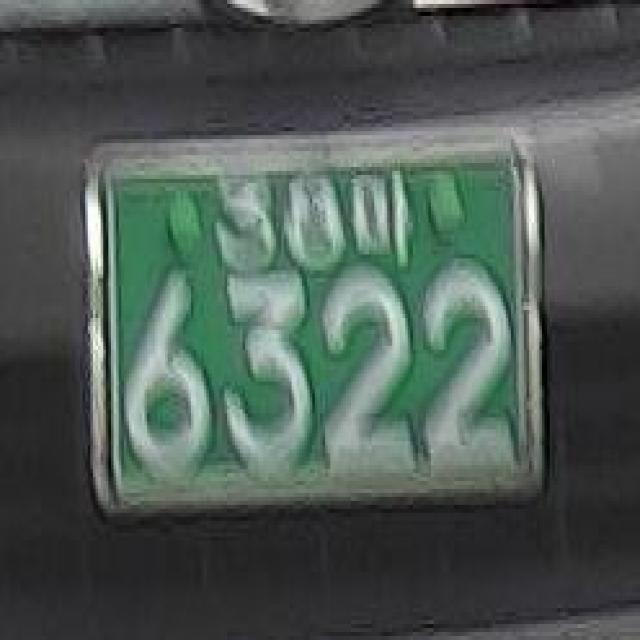illegal_plate: (71, 119, 559, 537)
